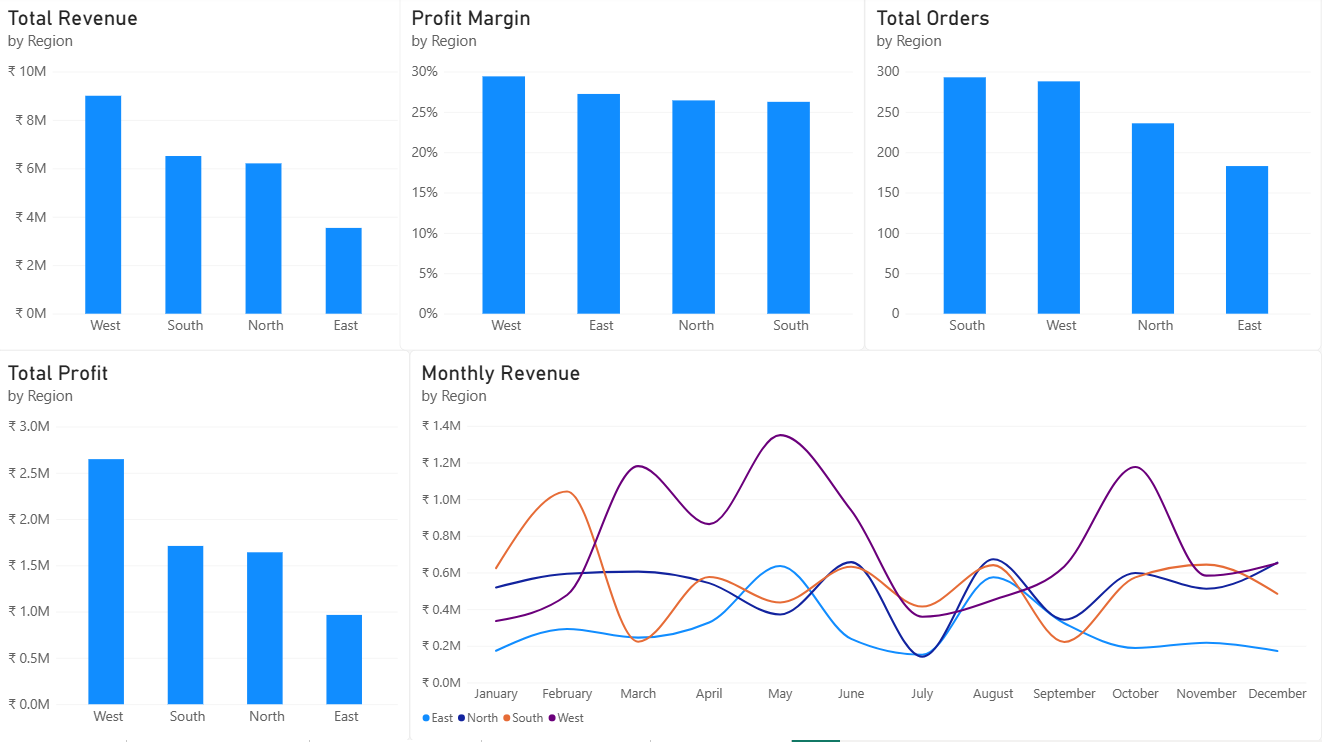

This screenshot's page, from the dashboard's own definition file:
{"tool":"powerbi","page":{"name":"Regional Analysis","canvas":[1920,1080],"ordinal":3},"visuals":[{"type":"clusteredColumnChart","fields":{"Category":["customers_clean.Region"],"Y":["transactions_clean.Total Revenue"]},"box":[0,0,599,514.6],"z":0},{"type":"clusteredColumnChart","fields":{"Category":["customers_clean.Region"],"Y":["transactions_clean.Total Profit"]},"box":[0,514.6,599,566],"z":1},{"type":"clusteredColumnChart","fields":{"Category":["customers_clean.Region"],"Y":["transactions_clean.Profit Margin"]},"box":[584.6,0,673.1,514.6],"z":2},{"type":"clusteredColumnChart","fields":{"Category":["customers_clean.Region"],"Y":["transactions_clean.Total Orders"]},"box":[1257.6,0,662.8,514.6],"z":3},{"type":"lineChart","title":"Monthly Revenue","fields":{"Category":["DateTable.Month"],"Series":["customers_clean.Region"],"Y":["transactions_clean.Total Revenue"]},"box":[599,514.6,1321.4,566],"z":4}]}

Visuals, with their boxes in screenshot pixels (x1, y1, x2, y2), scaled from the page's 1920x1080 canvas onto the 1322x742 screenshot:
clusteredColumnChart - customers_clean.Region x transactions_clean.Total Revenue: left=0, top=0, right=412, bottom=354
clusteredColumnChart - customers_clean.Region x transactions_clean.Total Profit: left=0, top=354, right=412, bottom=741
clusteredColumnChart - customers_clean.Region x transactions_clean.Profit Margin: left=403, top=0, right=866, bottom=354
clusteredColumnChart - customers_clean.Region x transactions_clean.Total Orders: left=866, top=0, right=1321, bottom=354
"Monthly Revenue" lineChart: left=412, top=354, right=1321, bottom=741
